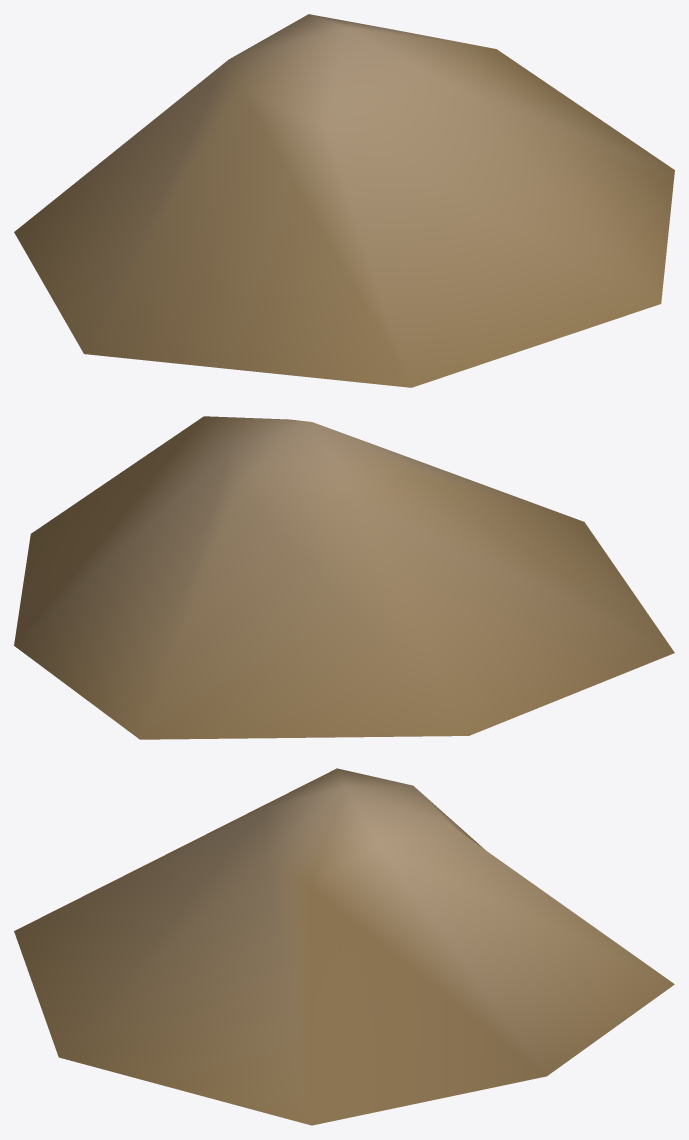
Rendered from sand.glb.
3 renders of one model, top to bottom at view 1: azimuth 30°, elevation 25°; view 2: azimuth 150°, elevation 25°; view 3: azimuth 270°, elevation 25°, orthographic. The views are drawn at different scales.
Parts seen in each view (by area): view 1: Cone.004; view 2: Cone.004; view 3: Cone.004.
Boxes of the visible parts, x1,y1,x2,y2 form: Cone.004: (14,14,674,387); Cone.004: (14,416,674,739); Cone.004: (14,768,674,1125).
Bounding box in the file's own units: 5.5 × 1.71 × 5.26.
